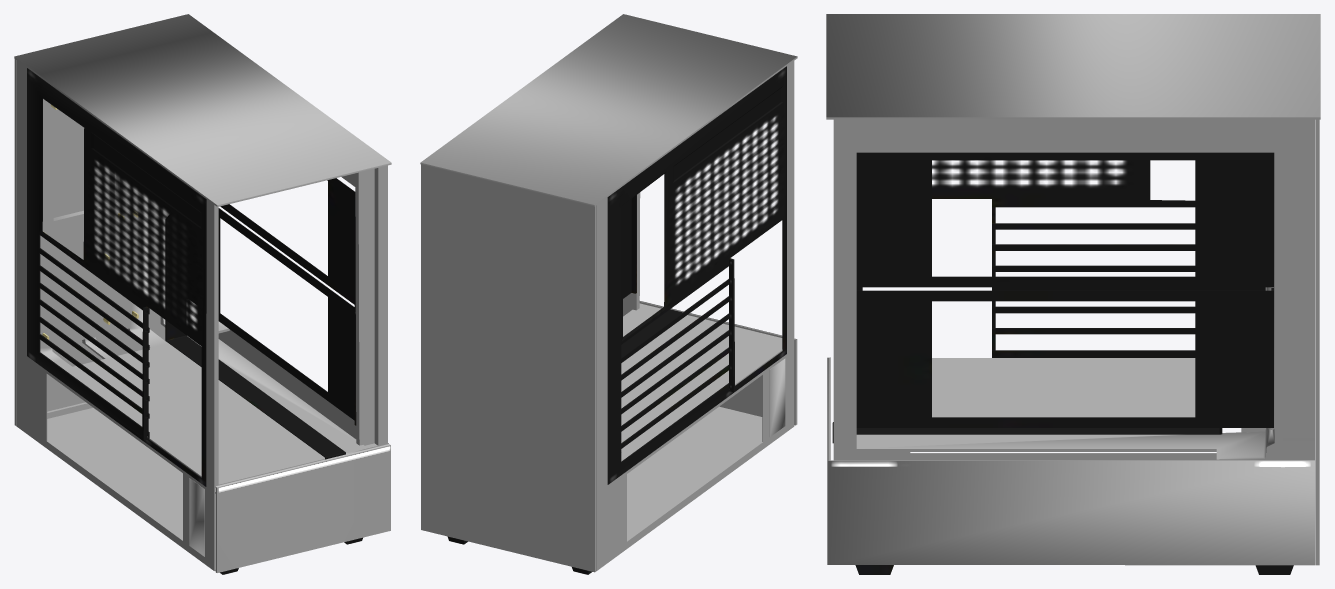
File: case-lianli-o11d-evo_lod2.glb
3 views of the same model, side by side, from view 1: azimuth 30°, elevation 25°; view 2: azimuth 150°, elevation 25°; view 3: azimuth 270°, elevation 25° (orthographic). The views are drawn at different scales.
Parts seen in each view (by area): view 1: body; view 2: body; view 3: body.
Boxes of the visible parts, x1=… form: body: x1=14, y1=14, x2=391, y2=574; body: x1=420, y1=14, x2=797, y2=574; body: x1=826, y1=14, x2=1320, y2=574.
Size of the model in its own units: 0.23 by 0.4692 by 0.45.
3 materials, 1 textured.
